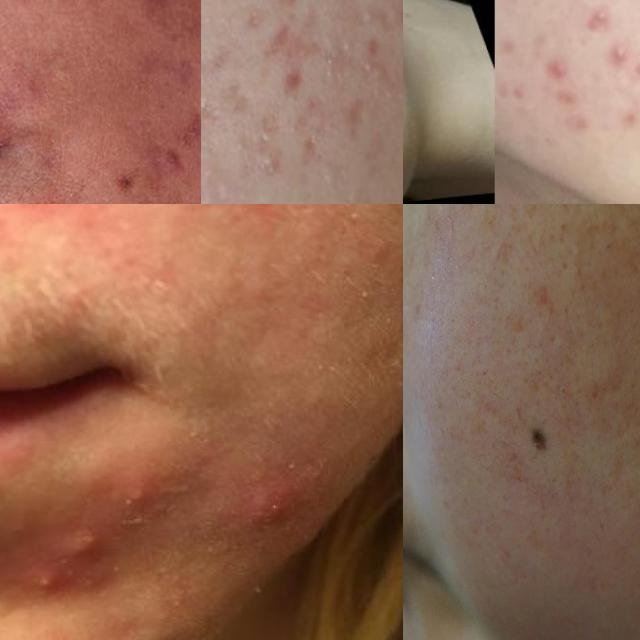acne_scars: (263, 14, 327, 69), (251, 92, 290, 138), (221, 66, 252, 117)
comedone: (356, 54, 393, 88), (523, 426, 552, 465), (340, 32, 358, 62), (358, 0, 376, 25), (403, 68, 415, 88)
cystic: (244, 470, 314, 527)
papule: (539, 82, 609, 149), (126, 460, 196, 524), (43, 521, 111, 562), (26, 571, 74, 616), (543, 39, 581, 91), (274, 54, 310, 105), (494, 70, 530, 110), (612, 96, 640, 137)
pustule: (583, 0, 627, 34), (600, 32, 634, 70), (622, 51, 640, 83)
